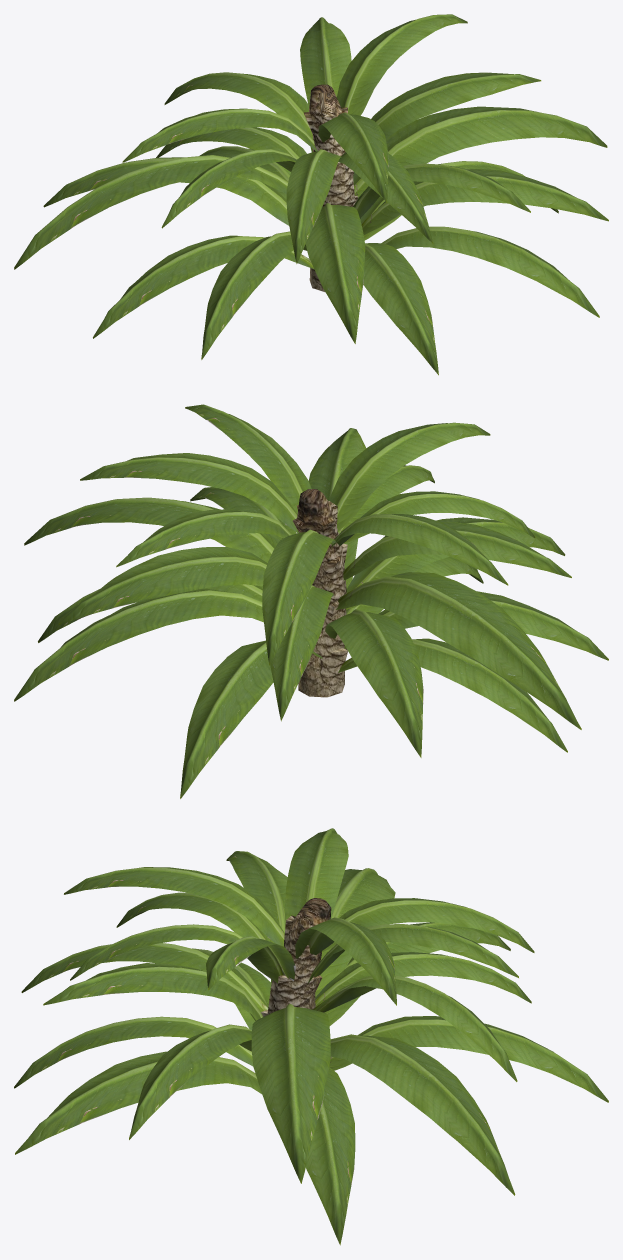
Rendered from Tropical_Plant.fbx.
The picture shows the model from 3 angles, top to bottom: view 1: azimuth 30°, elevation 25°; view 2: azimuth 150°, elevation 25°; view 3: azimuth 270°, elevation 25°; orthographic projection. The views are drawn at different scales.
Visible parts, largest first — view 1: grid42, grid43, grid45, grid46, grid58, grid52, grid47, grid31, grid41, grid60, grid61, grid63 (+11 smaller); view 2: grid45, grid39, grid44, grid57, grid53, cylinder, grid60, grid64, grid62, grid52, grid42, grid48 (+12 smaller); view 3: grid42, grid57, grid58, grid51, grid53, grid64, grid50, grid41, grid63, grid62, grid44, grid46 (+12 smaller).
Boxes of the visible parts, x1,y1,x2,y2 form: grid42: (353, 106, 607, 198); grid43: (305, 203, 365, 343); grid45: (14, 155, 288, 269); grid46: (363, 243, 438, 375); grid58: (381, 226, 599, 317); grid52: (93, 235, 313, 338); grid47: (201, 231, 307, 359); grid31: (371, 72, 541, 138); grid41: (361, 169, 608, 234); grid60: (337, 14, 467, 115); grid61: (286, 149, 341, 263); grid63: (122, 108, 317, 162); grid45: (335, 572, 581, 729); grid39: (325, 609, 423, 757); grid44: (58, 547, 267, 624); grid57: (14, 588, 263, 701); grid53: (180, 640, 322, 798); cylinder: (293, 489, 347, 697); grid60: (80, 453, 298, 533); grid64: (328, 422, 490, 531); grid62: (262, 529, 335, 665); grid52: (338, 638, 567, 752); grid42: (24, 497, 278, 562); grid48: (343, 521, 571, 580); grid42: (251, 1004, 330, 1183); grid57: (330, 1034, 515, 1195); grid58: (15, 1051, 261, 1154); grid51: (306, 1067, 355, 1245); grid53: (329, 1016, 608, 1102); grid64: (64, 867, 284, 946); grid50: (43, 963, 263, 1021); grid41: (129, 1024, 251, 1139); grid63: (284, 828, 348, 926); grid62: (321, 898, 534, 952); grid44: (312, 975, 517, 1081); grid46: (14, 1016, 253, 1088).
Bounding box in the file's own units: 25.22 × 9.34 × 21.26.
Materials: 2 (2 with a texture image).
